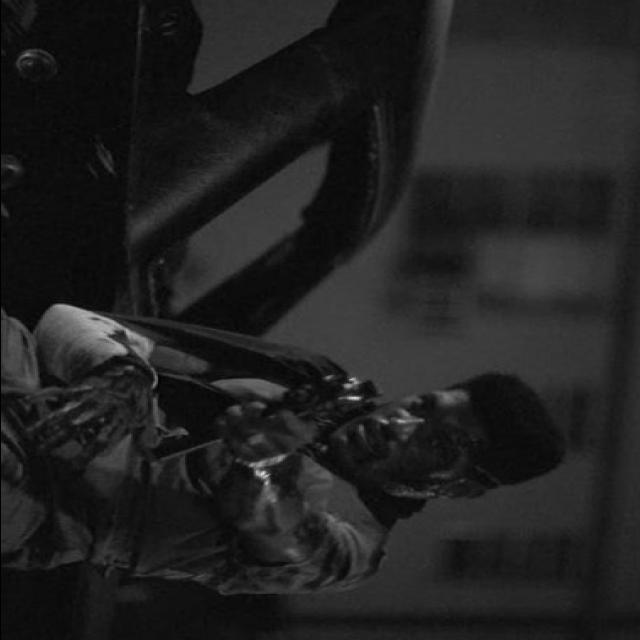weapons: (190, 361, 379, 439)
